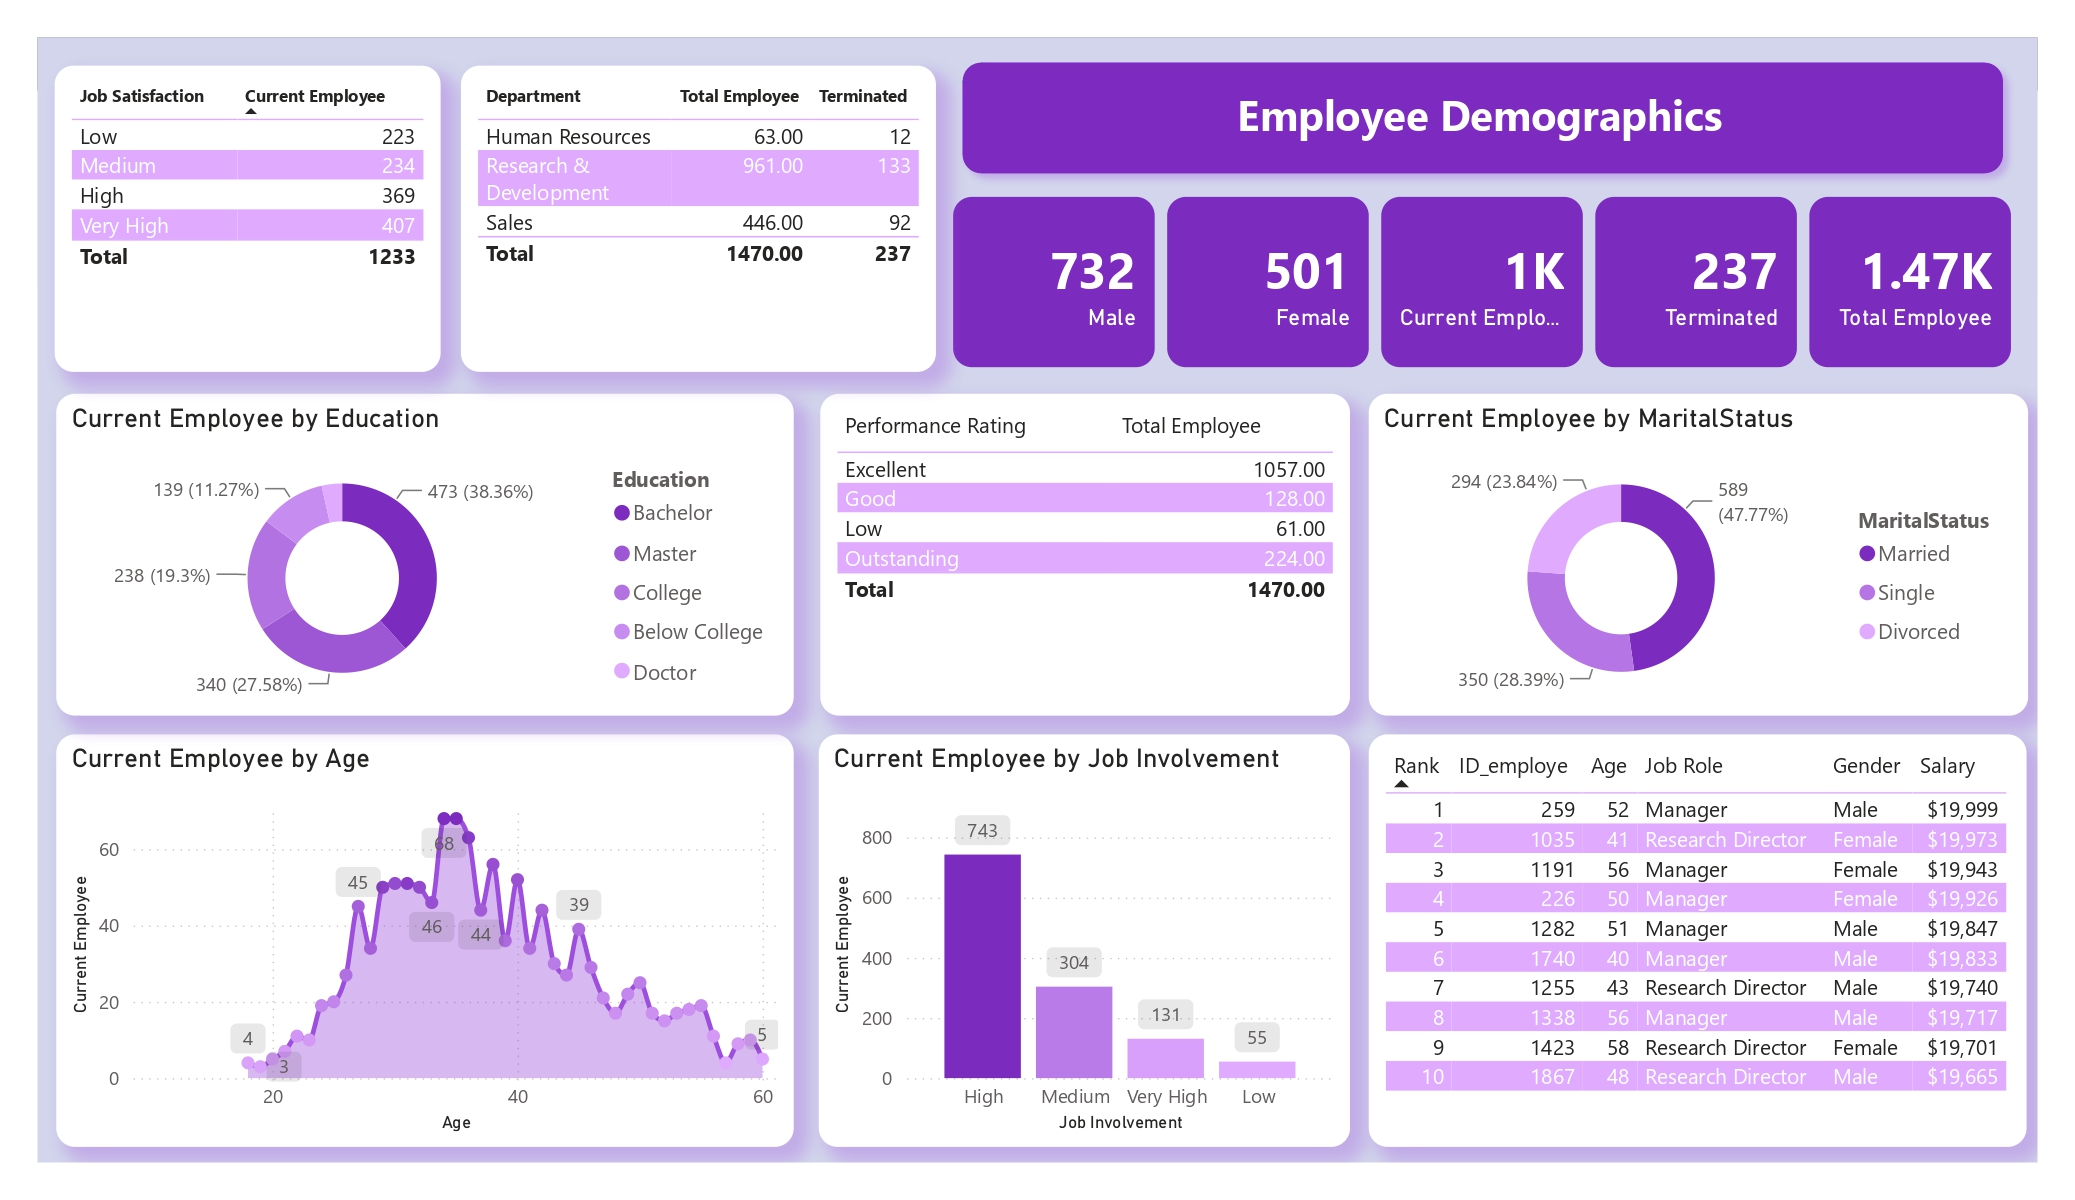

The page's visual inventory and layout, read from the dashboard file:
{"tool":"powerbi","page":{"name":"Employee Demographics","canvas":[1280,720],"ordinal":1},"visuals":[{"type":"lineChart","fields":{"Y":["All measure.Current Employee"],"Category":["HR Dashboard.Age"]},"box":[11.7,446.4,472.7,263.6],"z":0},{"type":"cardVisual","fields":{"Data":["All measure.Male","All measure.Female","All measure.Current Employee","All measure.Terminated","All measure.Total Employee"]},"box":[569,84.6,711,143],"z":1000},{"type":"donutChart","fields":{"Y":["All measure.Current Employee"],"Category":["HR Dashboard.Education"]},"box":[11.7,227.6,472.7,206.2],"z":2000},{"type":"tableEx","fields":{"Values":["HR Dashboard.PerformanceRating","All measure.Total Employee"]},"box":[500.9,227.6,339.5,206.2],"z":3000},{"type":"clusteredColumnChart","fields":{"Y":["All measure.Current Employee"],"Category":["HR Dashboard.JobInvolvement"]},"box":[499.9,446.4,340.4,263.6],"z":4000},{"type":"donutChart","fields":{"Category":["HR Dashboard.MaritalStatus"],"Y":["All measure.Current Employee"]},"box":[852.1,228,421.5,206.2],"z":5000},{"type":"tableEx","fields":{"Values":["All measure.Rank","HR Dashboard.ID_employe","HR Dashboard.Age","HR Dashboard.Job Role","HR Dashboard.Gender","All measure.Total salary"]},"box":[852,446.4,421.2,263.6],"z":6000},{"type":"tableEx","fields":{"Values":["HR Dashboard.JobSatisfaction","All measure.Current Employee"]},"box":[11.4,18.4,247,195.3],"z":7000},{"type":"tableEx","fields":{"Values":["HR Dashboard.Department","All measure.Total Employee","All measure.Terminated"]},"box":[270.7,18.4,304.8,195.3],"z":8000},{"type":"group","id":"g1","title":"Group 1","box":[582.6,6.8,683.8,89.5],"z":9000},{"type":"shape","box":[582.6,6.8,683.8,89.5],"z":10000,"group":"g1"},{"type":"textbox","box":[762.5,26.3,324.9,49.6],"z":11000,"group":"g1"}]}

Visuals, with their boxes on the page's 1280x720 design canvas (x1, y1, x2, y2). These are canvas units, not pixel positions in the 2075x1200 screenshot, which may show the page scaled, cropped or inside an application window:
lineChart - All measure.Current Employee x HR Dashboard.Age: 12, 446, 484, 710
cardVisual - All measure.Male x All measure.Female: 569, 85, 1280, 228
donutChart - All measure.Current Employee x HR Dashboard.Education: 12, 228, 484, 434
tableEx - HR Dashboard.PerformanceRating x All measure.Total Employee: 501, 228, 840, 434
clusteredColumnChart - All measure.Current Employee x HR Dashboard.JobInvolvement: 500, 446, 840, 710
donutChart - HR Dashboard.MaritalStatus x All measure.Current Employee: 852, 228, 1274, 434
tableEx - All measure.Rank x HR Dashboard.ID_employe: 852, 446, 1273, 710
tableEx - HR Dashboard.JobSatisfaction x All measure.Current Employee: 11, 18, 258, 214
tableEx - HR Dashboard.Department x All measure.Total Employee: 271, 18, 576, 214
"Group 1" group: 583, 7, 1266, 96
shape: 583, 7, 1266, 96
textbox: 762, 26, 1087, 76
